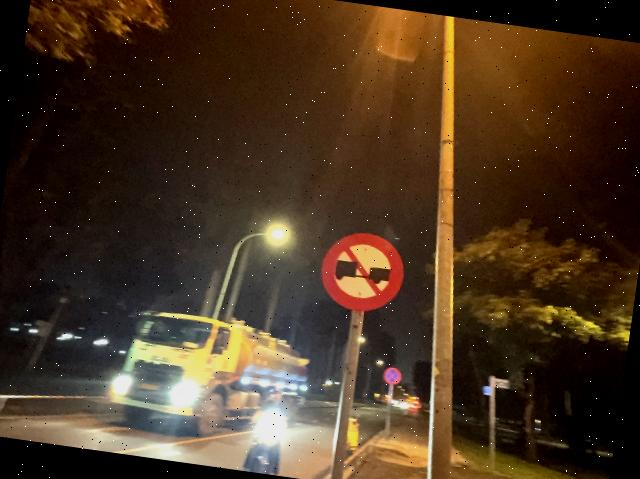cam-xe-somi-romooc: (317, 227, 409, 318)
